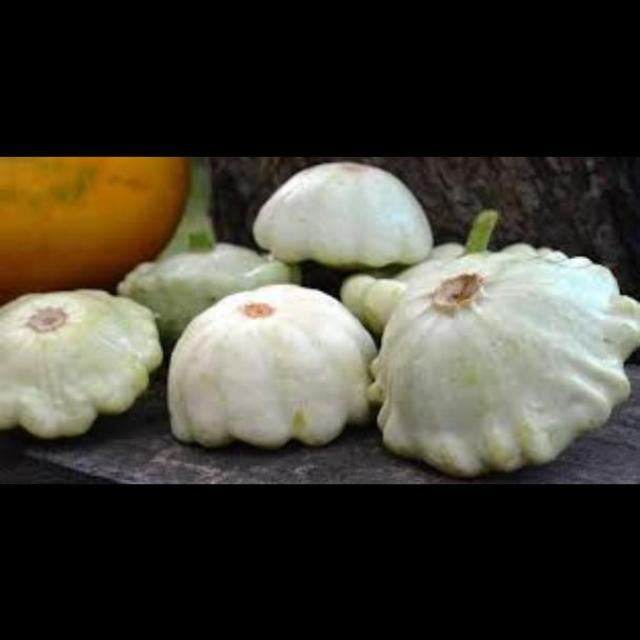squash-patisson: (376, 266, 638, 474), (167, 280, 385, 461), (0, 272, 158, 446), (248, 159, 436, 275), (118, 212, 294, 308), (378, 218, 609, 270)
